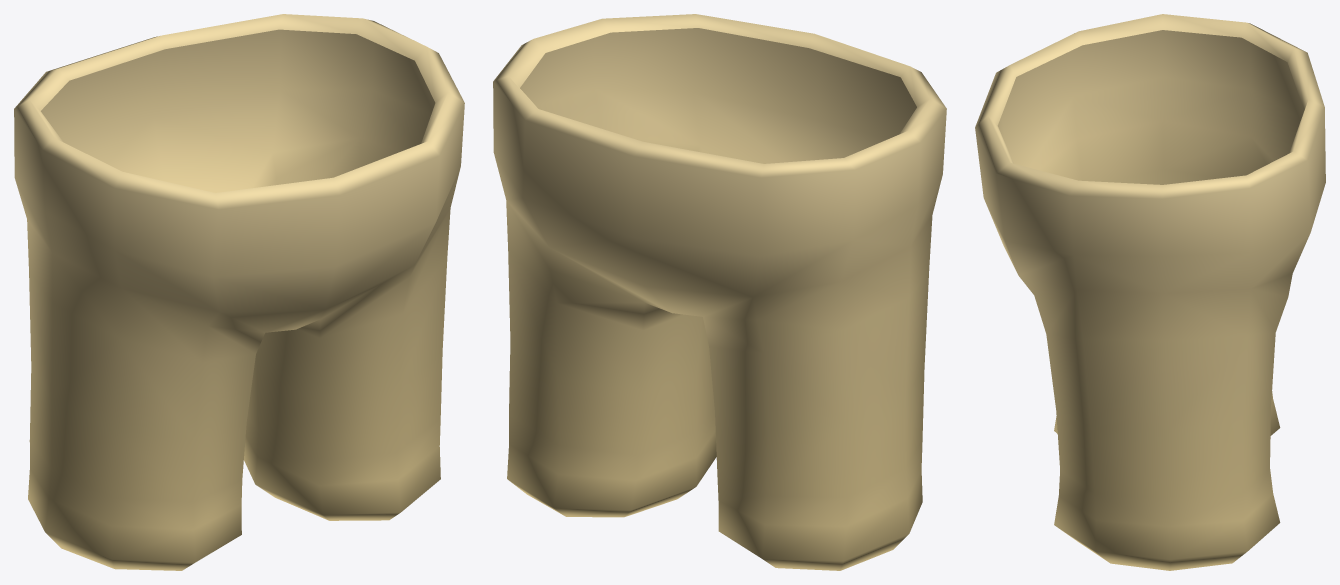
The model's file is Bottom_17.fbx.
The picture shows the model from 3 angles, left to right: view 1: azimuth 30°, elevation 25°; view 2: azimuth 150°, elevation 25°; view 3: azimuth 270°, elevation 25°; orthographic projection. The views are drawn at different scales.
Visible parts, largest first — view 1: Bottom_17; view 2: Bottom_17; view 3: Bottom_17.
Boxes of the visible parts, x1=… form: Bottom_17: x1=14, y1=14, x2=464, y2=570; Bottom_17: x1=493, y1=14, x2=946, y2=570; Bottom_17: x1=975, y1=14, x2=1325, y2=570.
Bounding box in the file's own units: 38.42 × 38.99 × 31.34.
